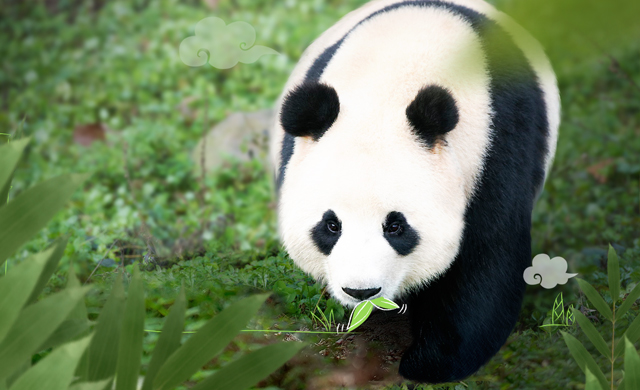panda: (264, 2, 572, 382)
